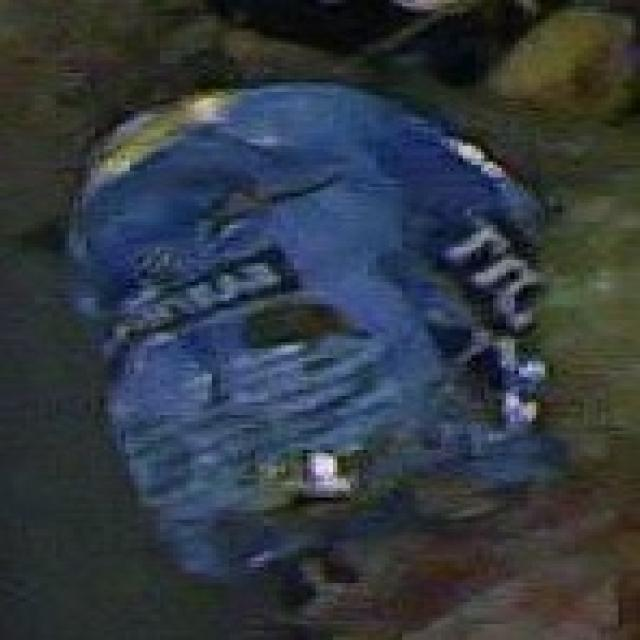litter: (47, 92, 531, 487)
